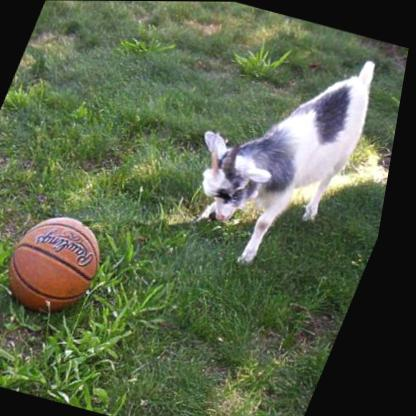basketball: (0, 207, 123, 320)
